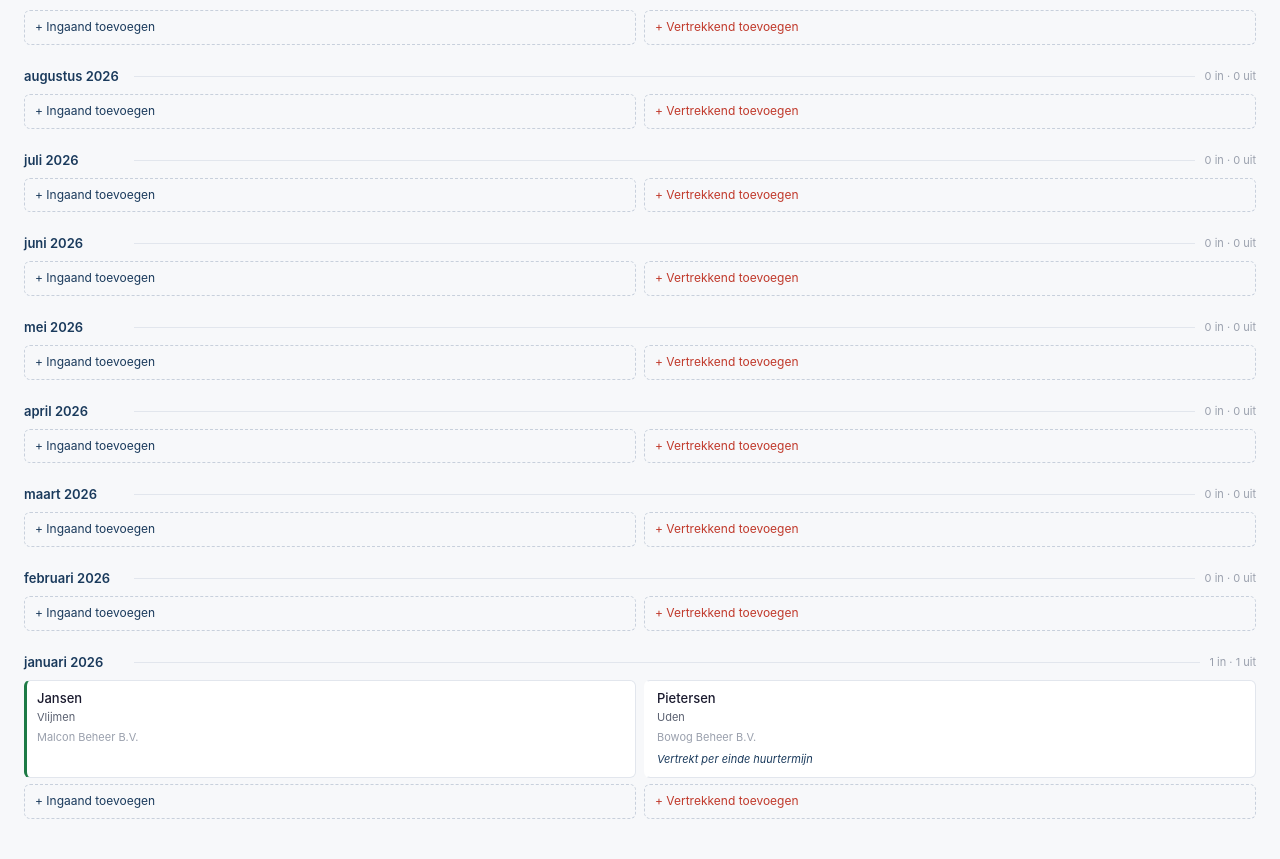
Scenario: Huurdersmutaties › voegt een nieuwe ingaande mutatie toe via "+ Ingaand toevoegen"
This screenshot has width=1280, height=859.
(page scrolled)
Click the button "+ Ingaand toevoegen" below "januari". click: (95, 800)
box: [24,784,636,819]
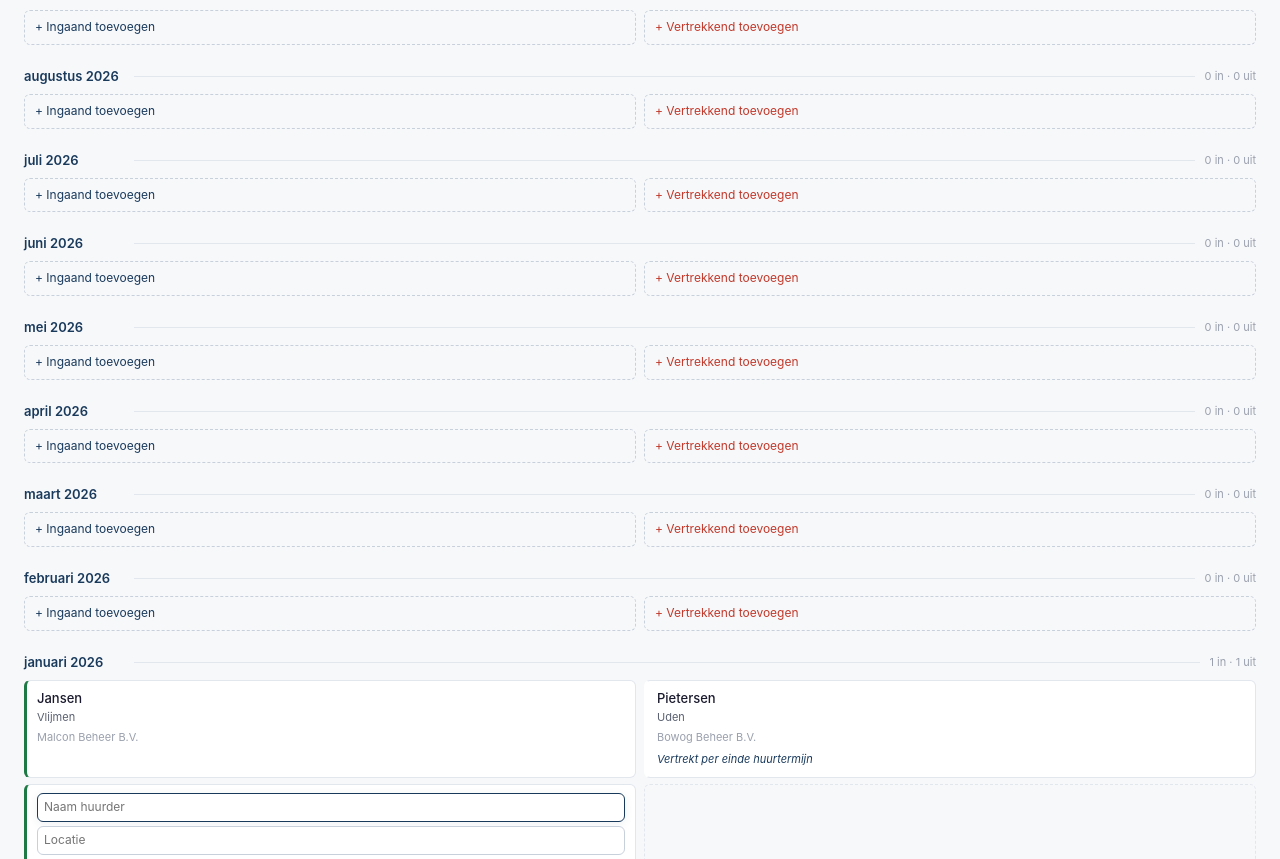
Type "De Vries" into the field labelled "Naam huurder". click: (331, 807)
box: [37,793,625,822]
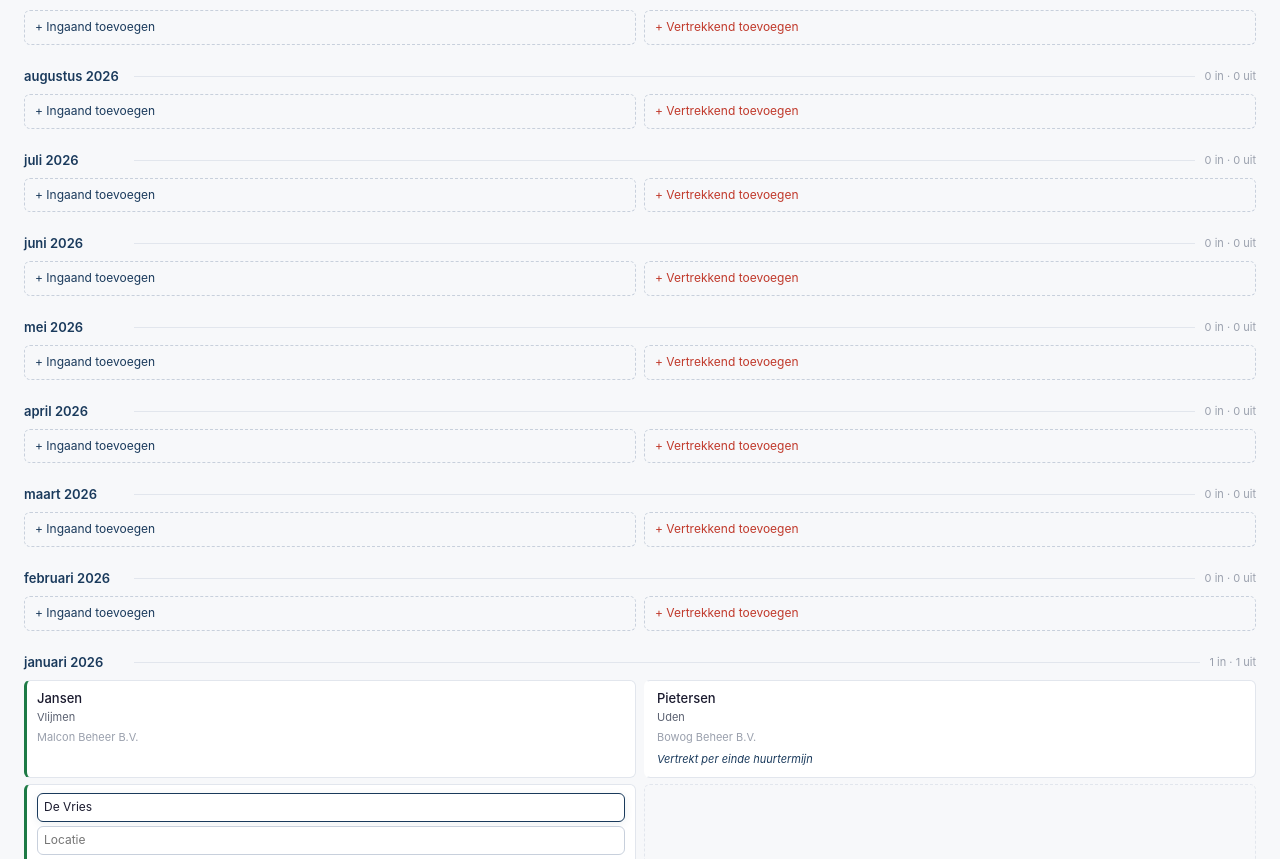
Type "Haarlem" into the field labelled "Locatie". click: (331, 840)
box: [37,826,625,855]
(page scrolled)
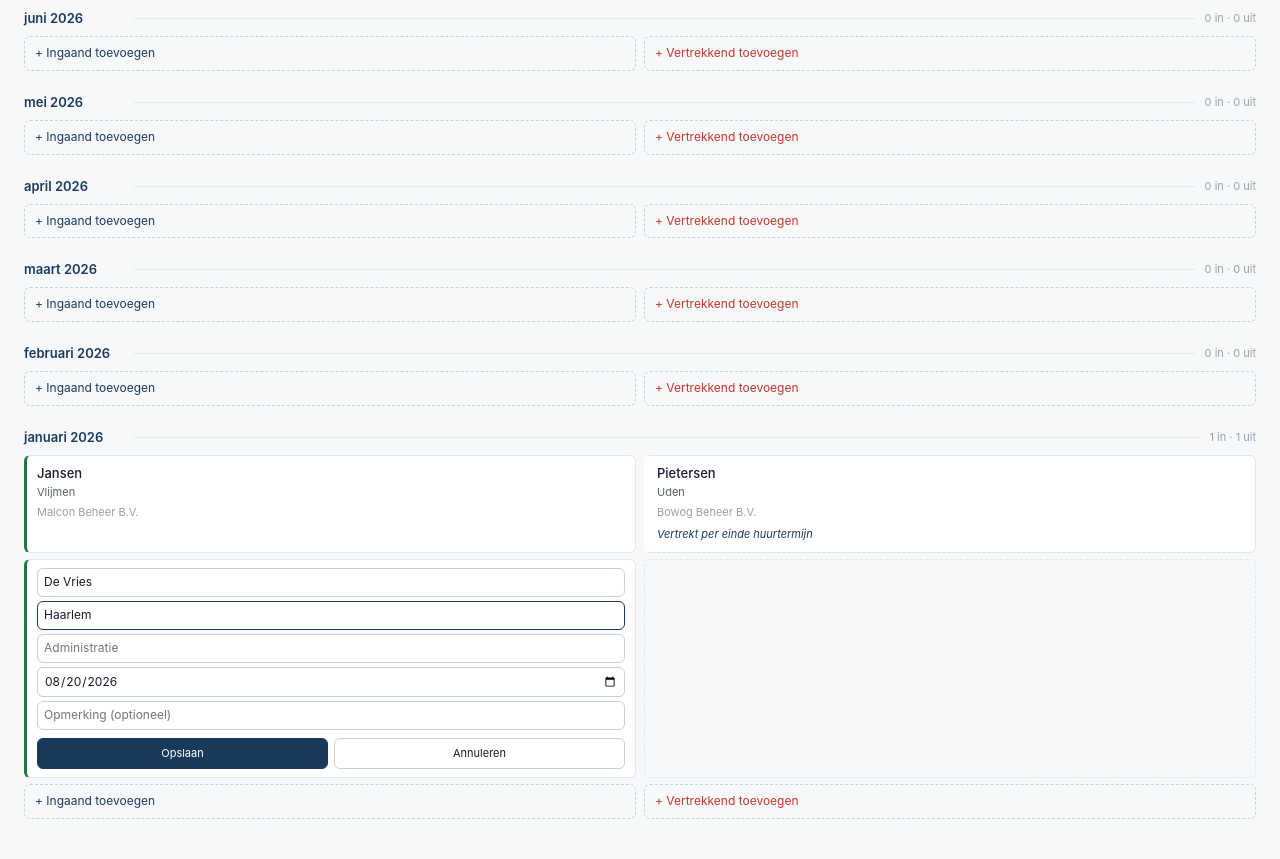
Click the button "Opslaan". click: (182, 754)
box: [37,738,328,769]
(page scrolled)
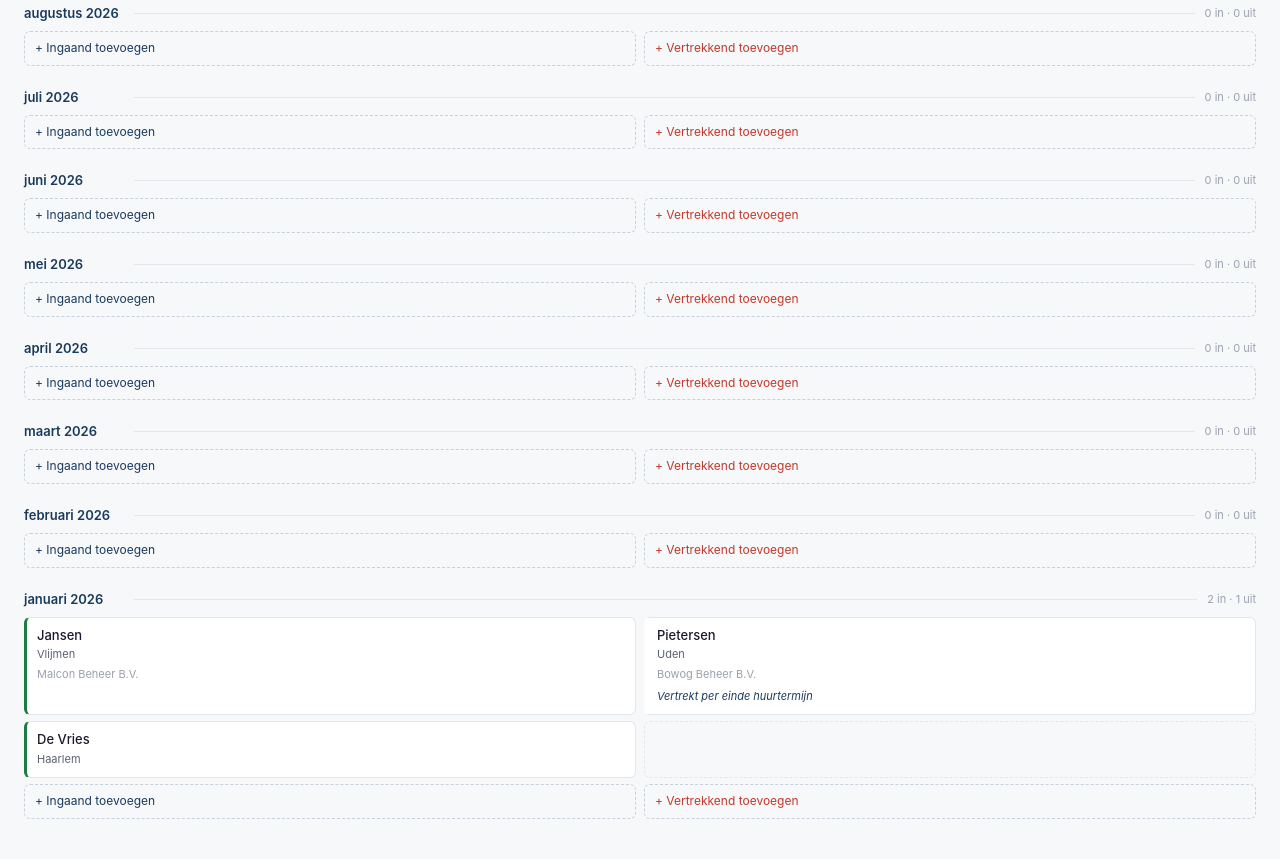
Check: the text "De Vries" is shown, box [37,730,90,749]
